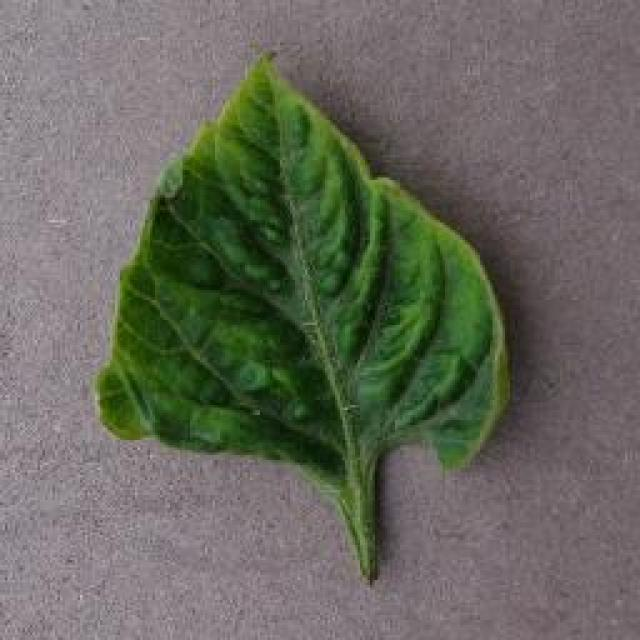Tomato yellow virus leaf: (94, 55, 518, 477)
